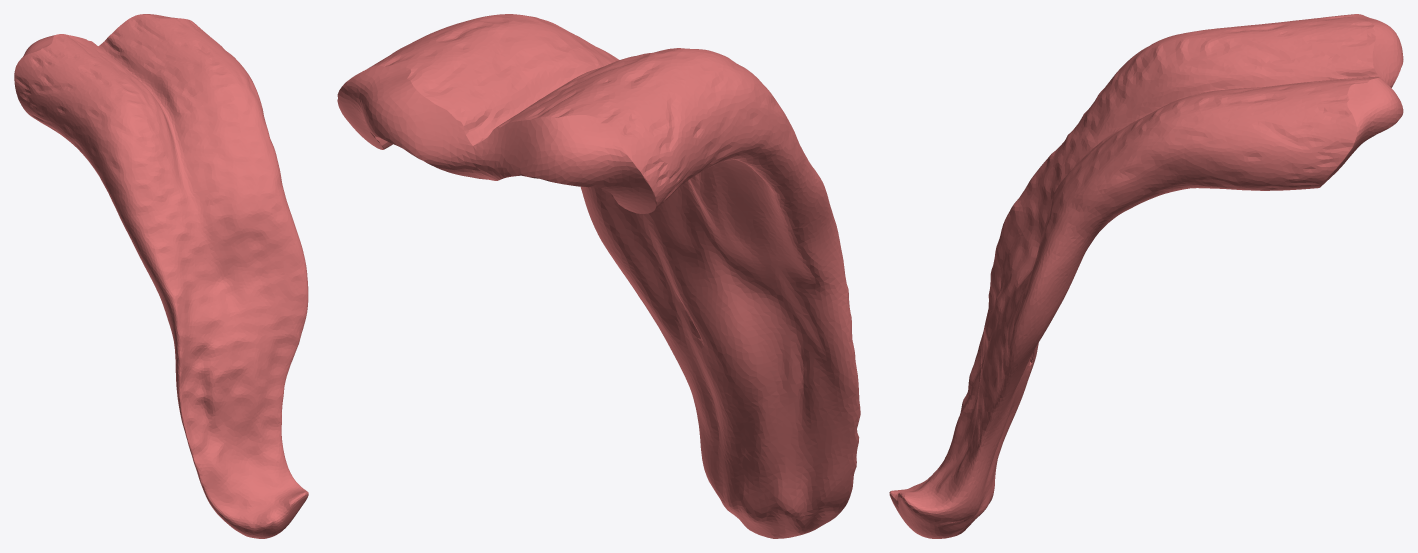
Rendered from Tongue_01_LOD1.glb.
3 views of the same model, side by side, from view 1: azimuth 30°, elevation 25°; view 2: azimuth 150°, elevation 25°; view 3: azimuth 270°, elevation 25° (orthographic). The views are drawn at different scales.
Parts seen in each view (by area): view 1: Finished tongue; view 2: Finished tongue; view 3: Finished tongue.
Boxes of the visible parts, <box> form: Finished tongue: <box>14,14,308,538</box>; Finished tongue: <box>337,14,860,538</box>; Finished tongue: <box>889,14,1403,538</box>.
Bounding box in the file's own units: 0.382 × 0.7284 × 0.6937.
